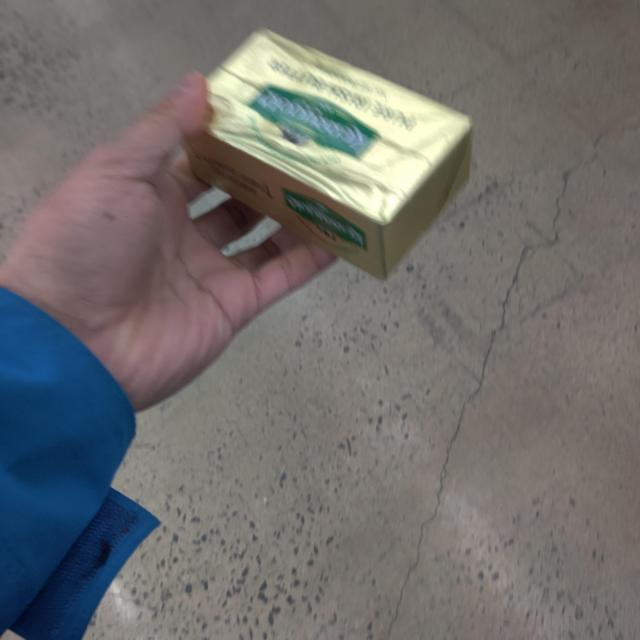Butter: (180, 30, 474, 284)
